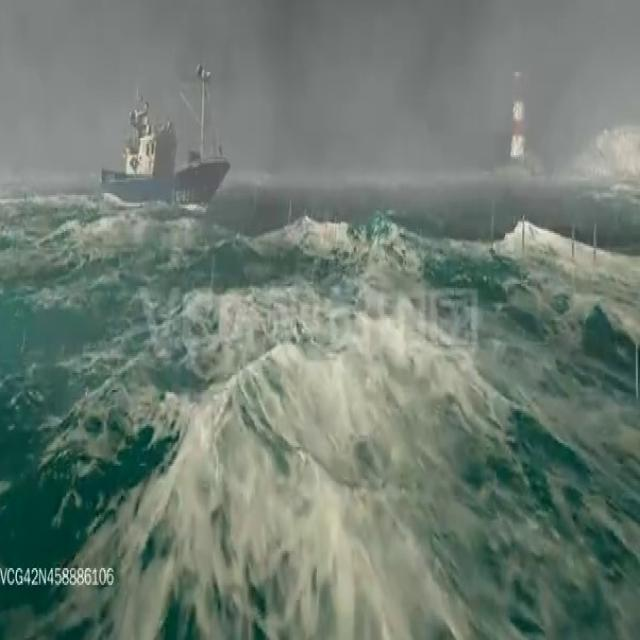fishing boat: (98, 69, 224, 207)
